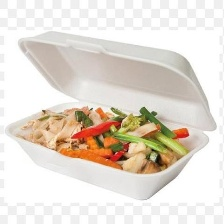foam_box: (0, 23, 222, 205)
